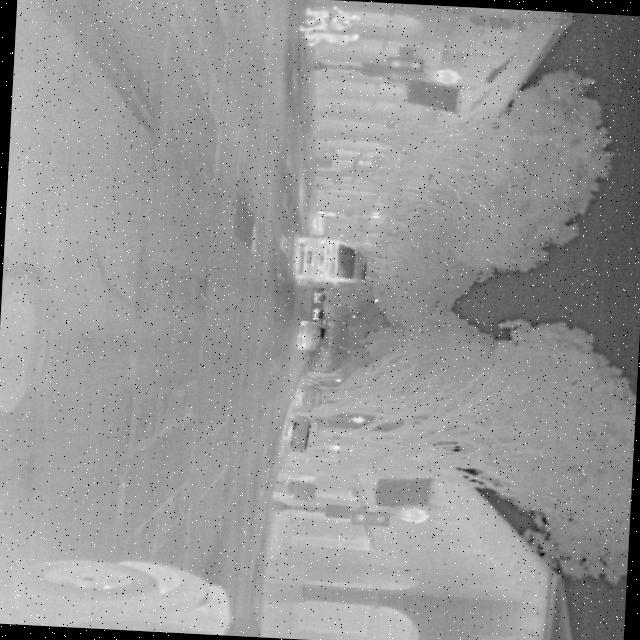Pedestrian: (299, 29, 362, 50), (296, 14, 354, 36), (304, 4, 361, 26), (315, 209, 335, 218)
Vehicle: (291, 234, 372, 291), (294, 318, 329, 352)
